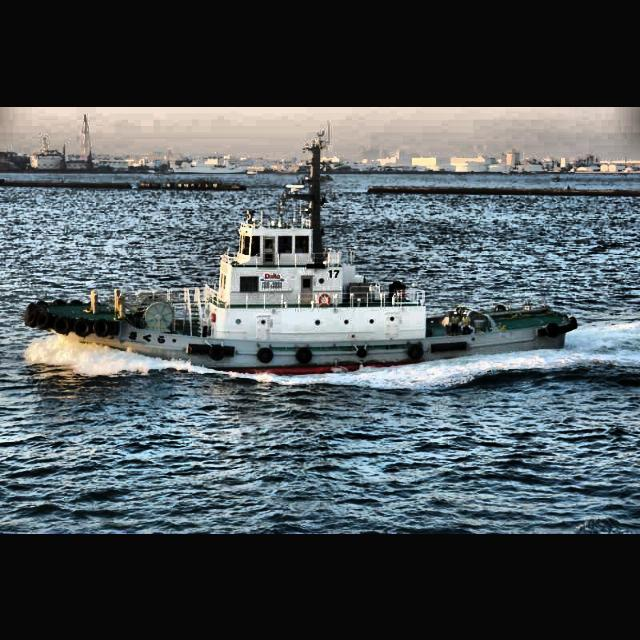tug: (24, 200, 580, 376)
